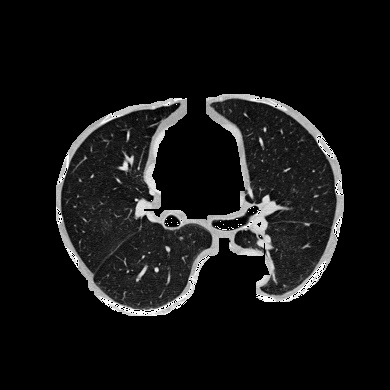PN: (305, 222, 309, 226)
